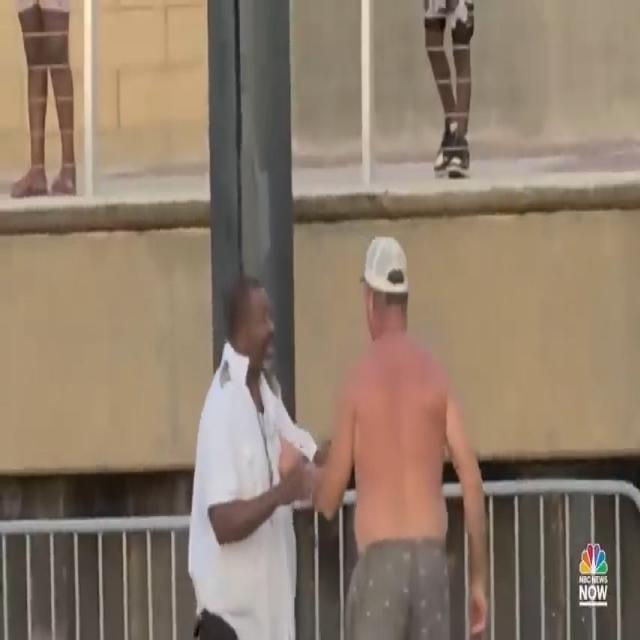non-fight: (163, 236, 504, 640)
